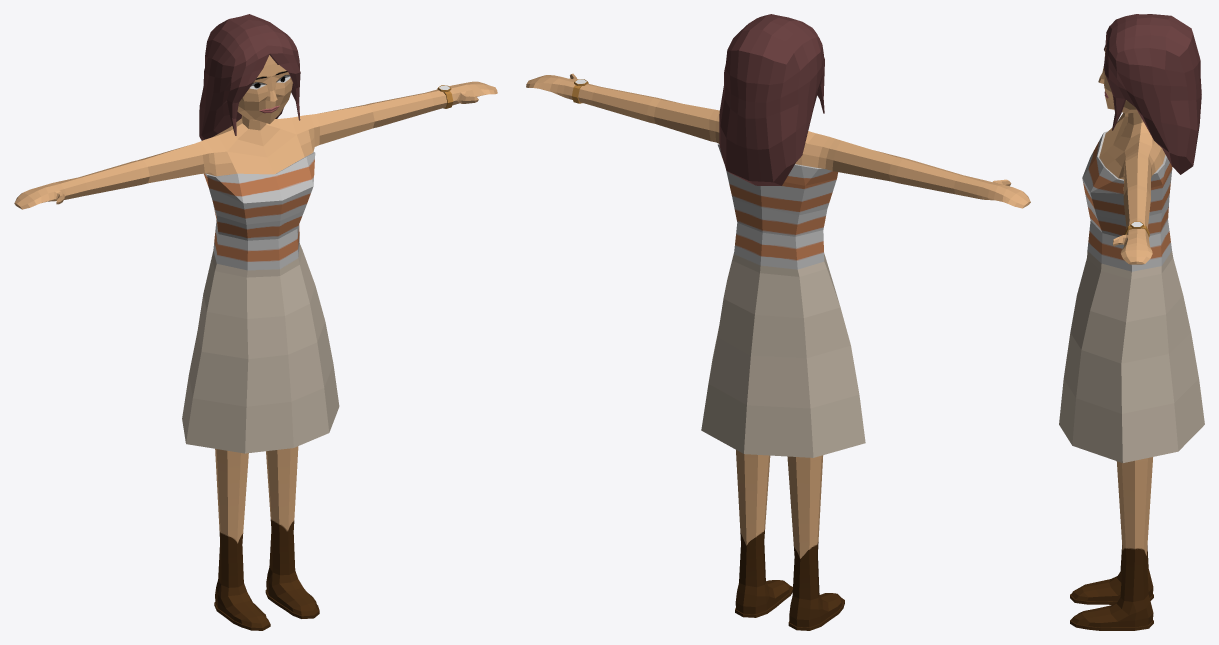
Rendered from delh_char_04.fbx.
3 views of the same model, side by side, from view 1: azimuth 30°, elevation 25°; view 2: azimuth 150°, elevation 25°; view 3: azimuth 270°, elevation 25° (orthographic). The views are drawn at different scales.
Visible parts, largest first — view 1: delh_char_04; view 2: delh_char_04; view 3: delh_char_04.
Boxes of the visible parts, x1=… form: delh_char_04: x1=14, y1=14, x2=497, y2=630; delh_char_04: x1=526, y1=14, x2=1030, y2=630; delh_char_04: x1=1059, y1=14, x2=1204, y2=630.
Size of the model in its own units: 154 by 177 by 39.44.
